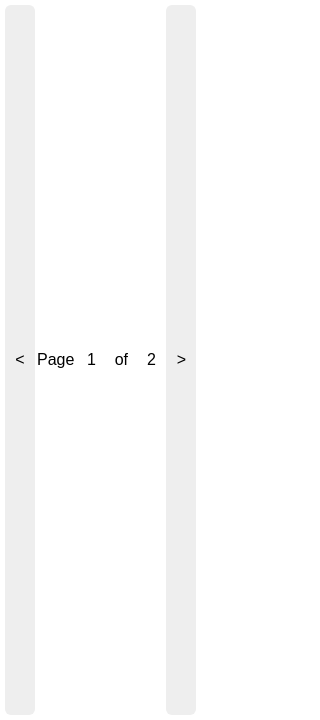
Test: given page 1, size 5 and records 10 - after clicking forward should change page to 2
The width and height of the screenshot is (320, 720).
Click the button with test id "pagination-forward" at (181, 360), box [166,5,196,715]
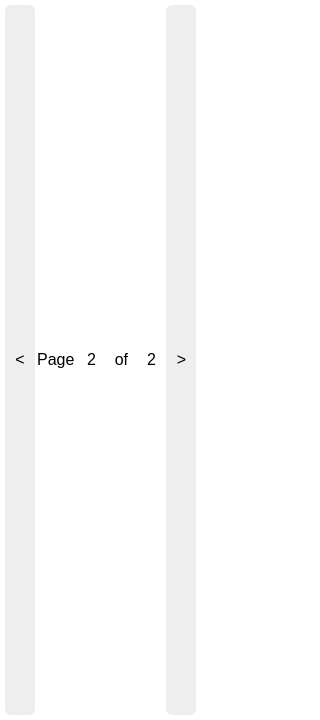
Check: the text with test id "current-page" reads "2", box [87,351,96,368]
